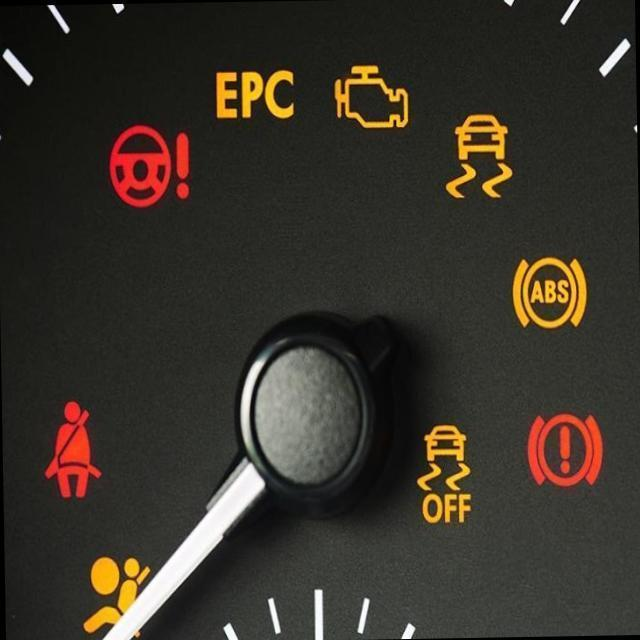Electronic Power Steering: (101, 126, 194, 205)
Seat Belt: (42, 402, 100, 498)
